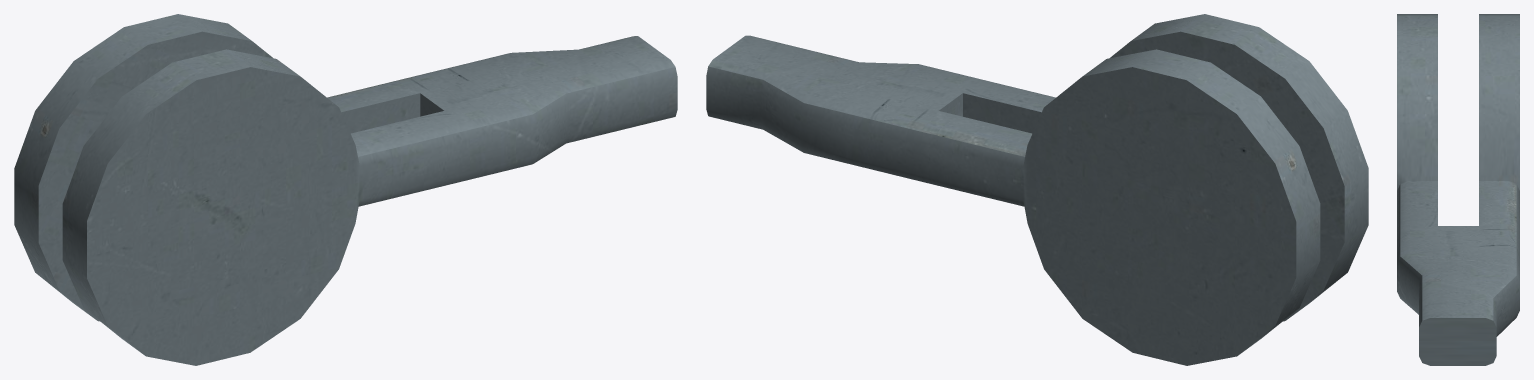
The model's file is RotatorAttachment.FBX.
The picture shows the model from 3 angles, left to right: view 1: azimuth 30°, elevation 25°; view 2: azimuth 150°, elevation 25°; view 3: azimuth 270°, elevation 25°; orthographic projection. The views are drawn at different scales.
Visible parts, largest first — view 1: RotatorAttachment; view 2: RotatorAttachment; view 3: RotatorAttachment.
Boxes of the visible parts, x1,y1,x2,y2 form: RotatorAttachment: [14, 14, 677, 365]; RotatorAttachment: [706, 14, 1368, 365]; RotatorAttachment: [1397, 14, 1519, 365].
Size of the model in its own units: 27.11 by 5.64 by 12.26.
